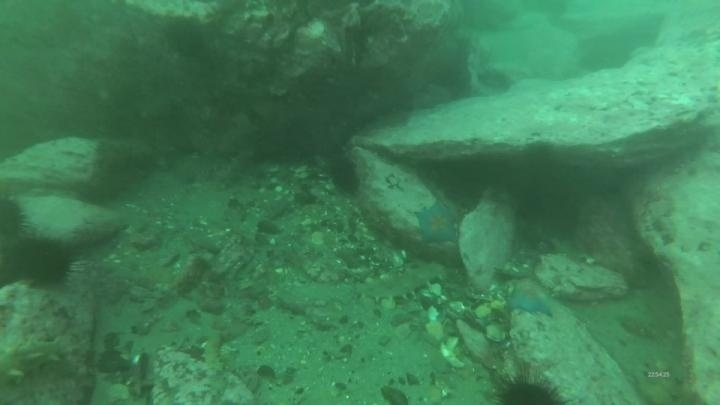echinus: (9, 233, 77, 291), (491, 373, 567, 405), (325, 153, 363, 197), (1, 194, 30, 243), (476, 66, 516, 98)
holothurian: (354, 260, 449, 308), (1, 334, 69, 388), (201, 328, 224, 375)
starfish: (412, 199, 462, 246), (504, 284, 558, 320)
